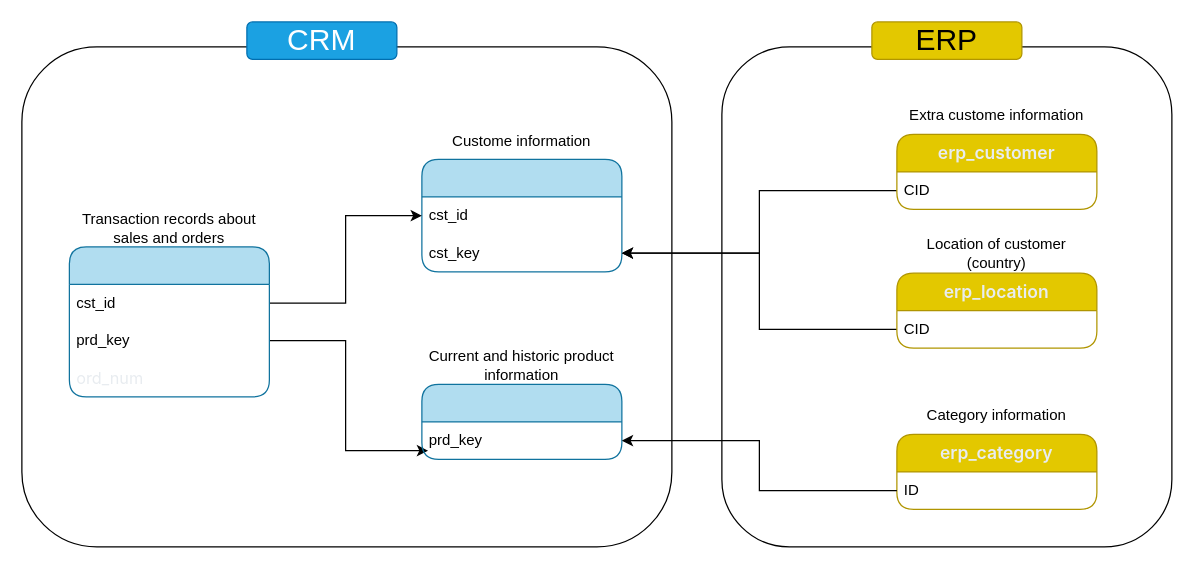
Image size: 1194x569. Some labels were removed from this diagram. The shapes that lost their labels are listed below. From the top down, each one's box as (x1, y1, x2, y2) in pixels, then its label:
(421, 158, 622, 272): crm_customer
(68, 246, 269, 397): crm_sales
(421, 383, 622, 459): crm_product
